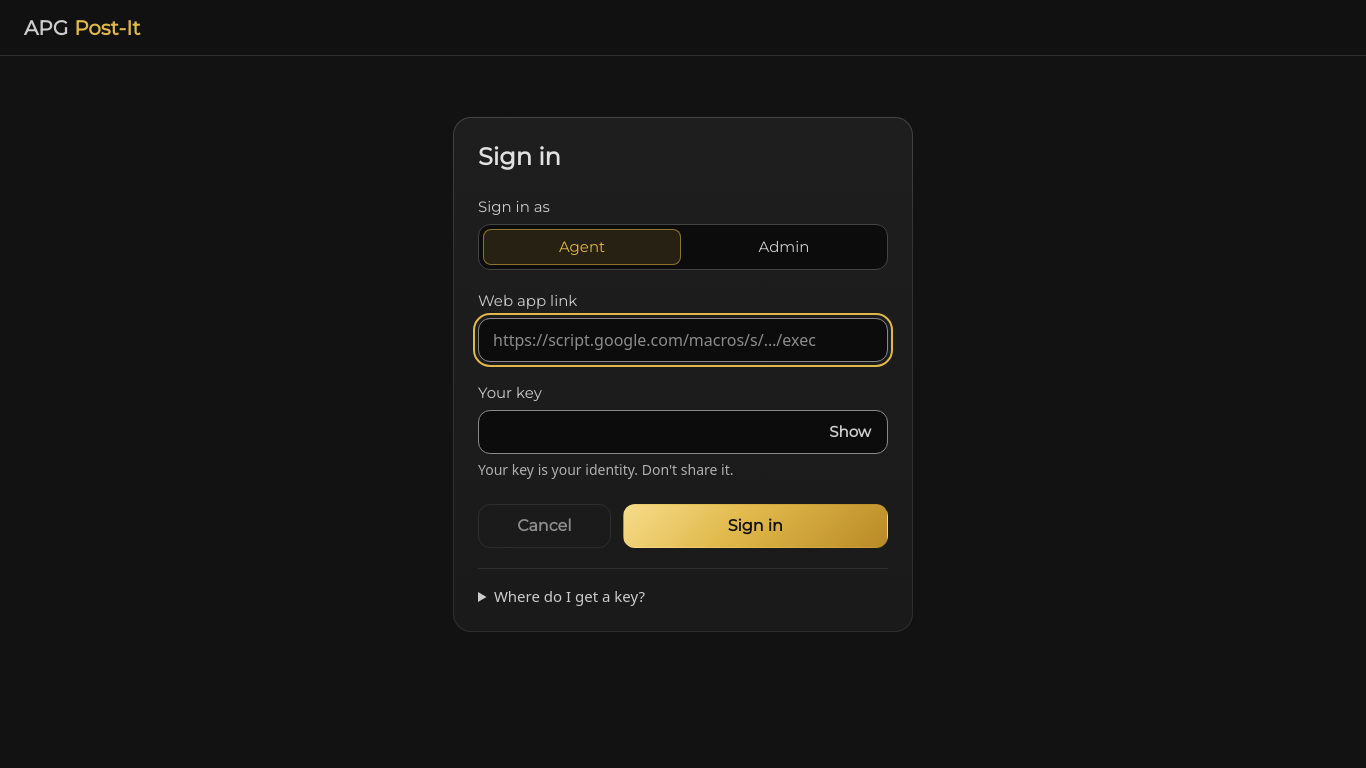
Test case: the welcome tour › opens by itself right after a first sign-in
Type "https://script.google.com/macros/s/AKfy-test/exec" into the field labelled "Web app link".
click(683, 340); type("https://script.google.com/macros/s/AKfy-test/exec")  # box [478, 318, 888, 362]
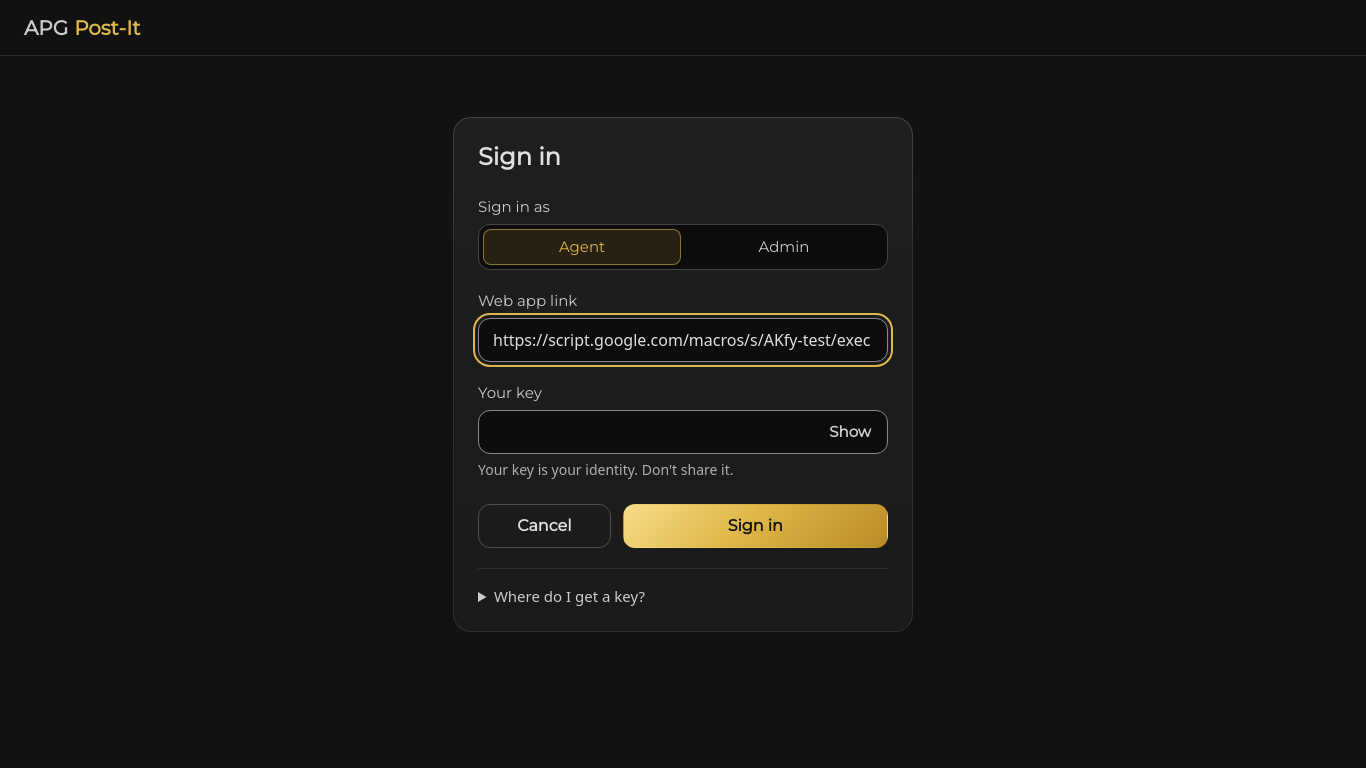
Type "key-1" into the password field labelled "Your key".
click(683, 432); type("key-1")  # box [478, 410, 888, 454]
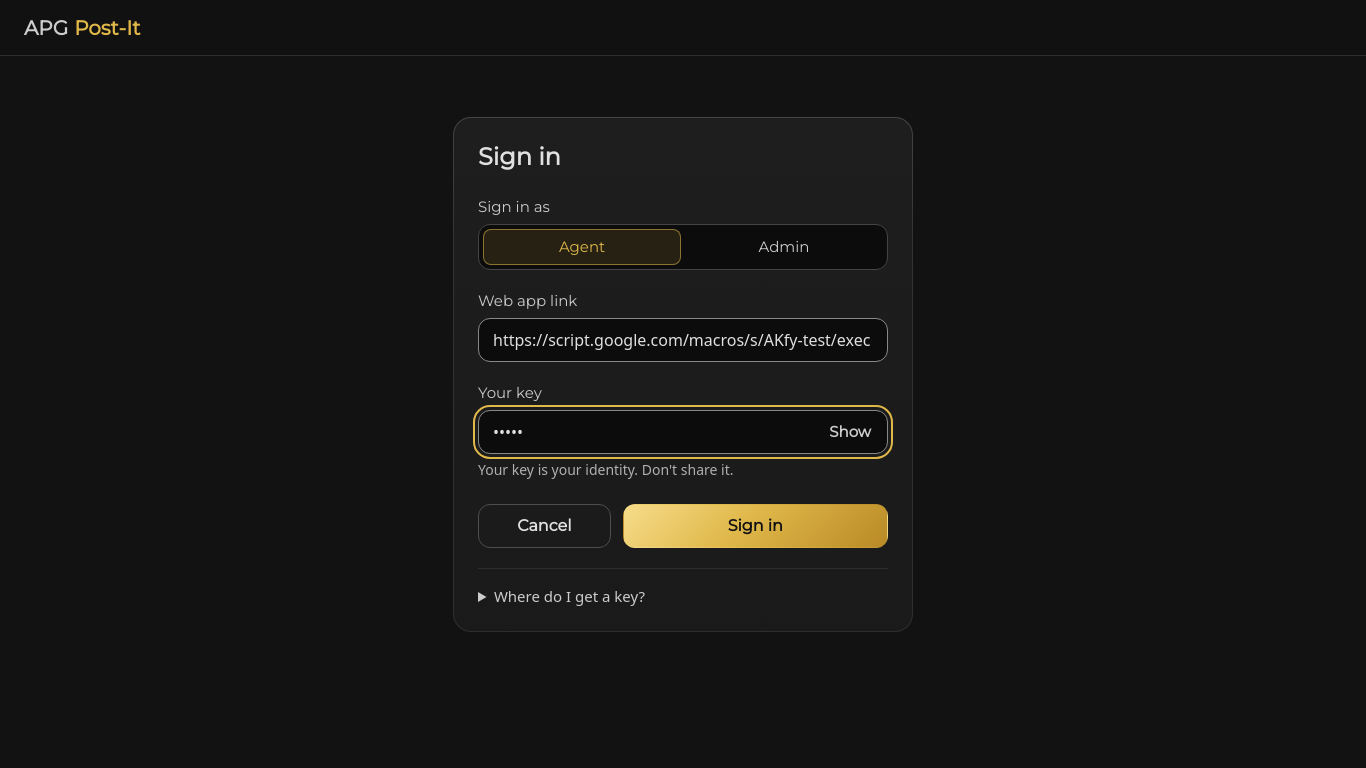
Click the button "Sign in".
click(755, 526)  # box [623, 504, 888, 548]
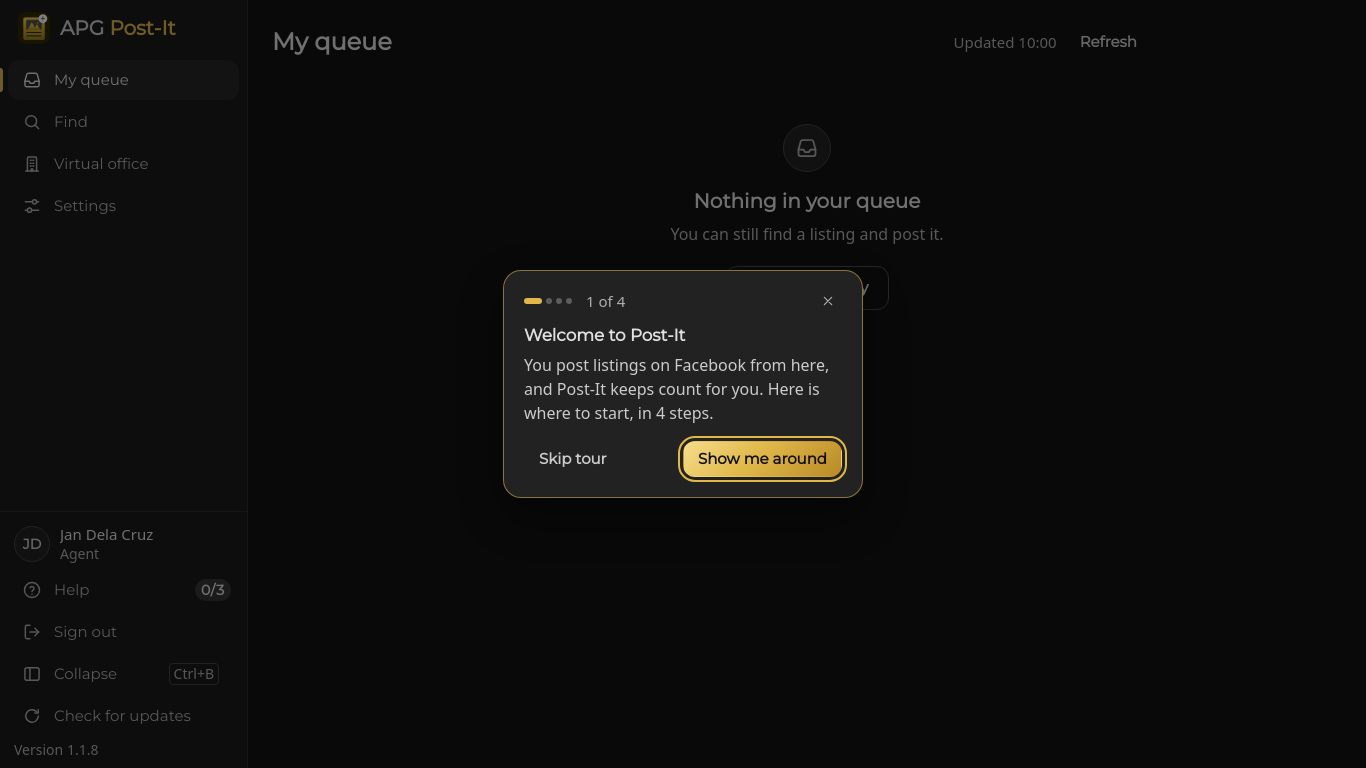
Check: the heading "My queue" is shown, box [272, 27, 392, 57]
Check: the dialog "Welcome to Post-It" is shown, box [503, 270, 863, 498]
